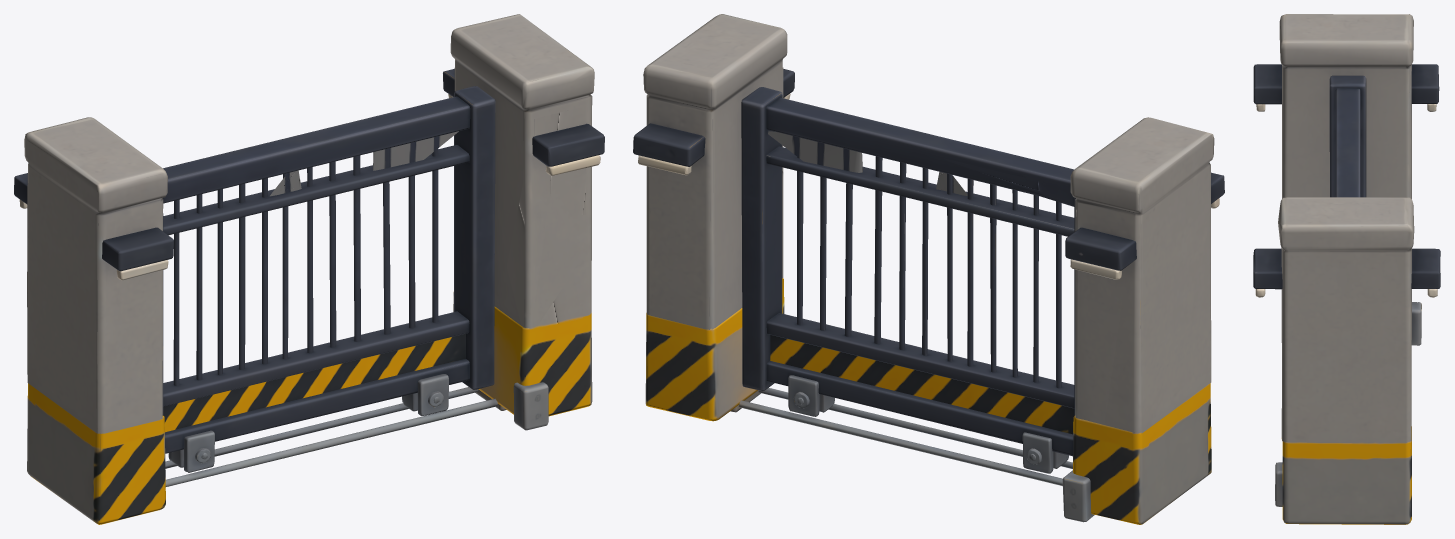
File: vehicle-gate.glb
3 views of the same model, side by side, from view 1: azimuth 30°, elevation 25°; view 2: azimuth 150°, elevation 25°; view 3: azimuth 270°, elevation 25° (orthographic). The views are drawn at different scales.
Parts seen in each view (by area): view 1: geometry_0; view 2: geometry_0; view 3: geometry_0.
Boxes of the visible parts, <box> form: geometry_0: <box>14,14,604,524</box>; geometry_0: <box>633,14,1224,524</box>; geometry_0: <box>1253,14,1440,524</box>.
Size of the model in its own units: 1 by 0.6722 by 0.3733.
Materials: 1 (1 with a texture image).
